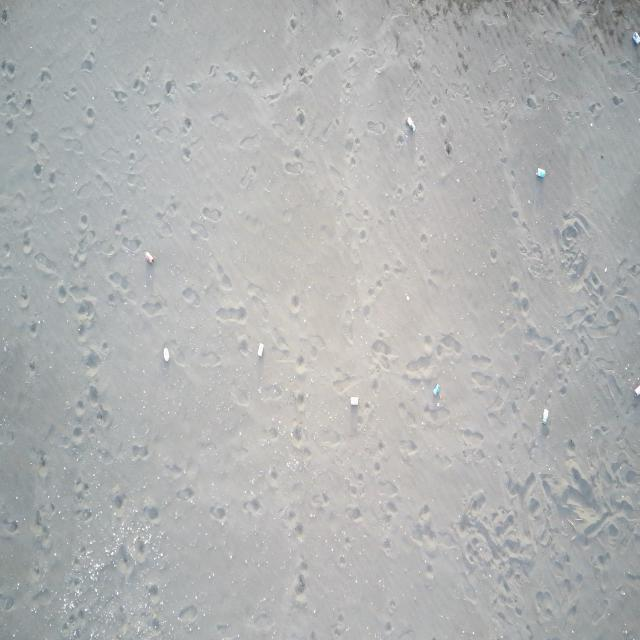tin-and-aluminum-cans: (144, 250, 156, 265), (407, 114, 417, 131), (541, 407, 549, 426), (163, 346, 170, 364), (433, 382, 441, 396), (536, 168, 546, 179), (258, 342, 264, 359), (633, 30, 639, 45), (350, 395, 359, 405), (634, 385, 640, 397)
